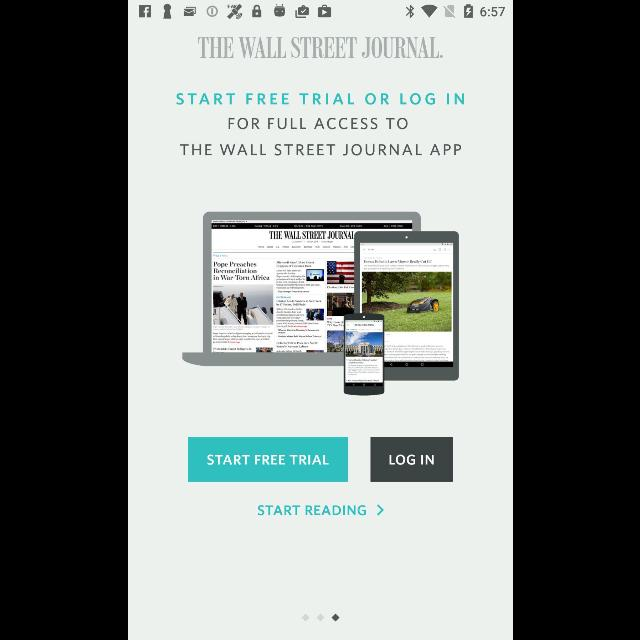icon: (376, 504, 384, 516)
image: (182, 212, 458, 396)
pageindicator: (301, 613, 339, 621)
text: (198, 37, 442, 59), (175, 93, 463, 105), (179, 144, 461, 156), (227, 118, 407, 130), (256, 504, 366, 516)
textbutton: (187, 436, 347, 482), (370, 436, 452, 482)
uppertaskbar: (128, 1, 512, 20)
